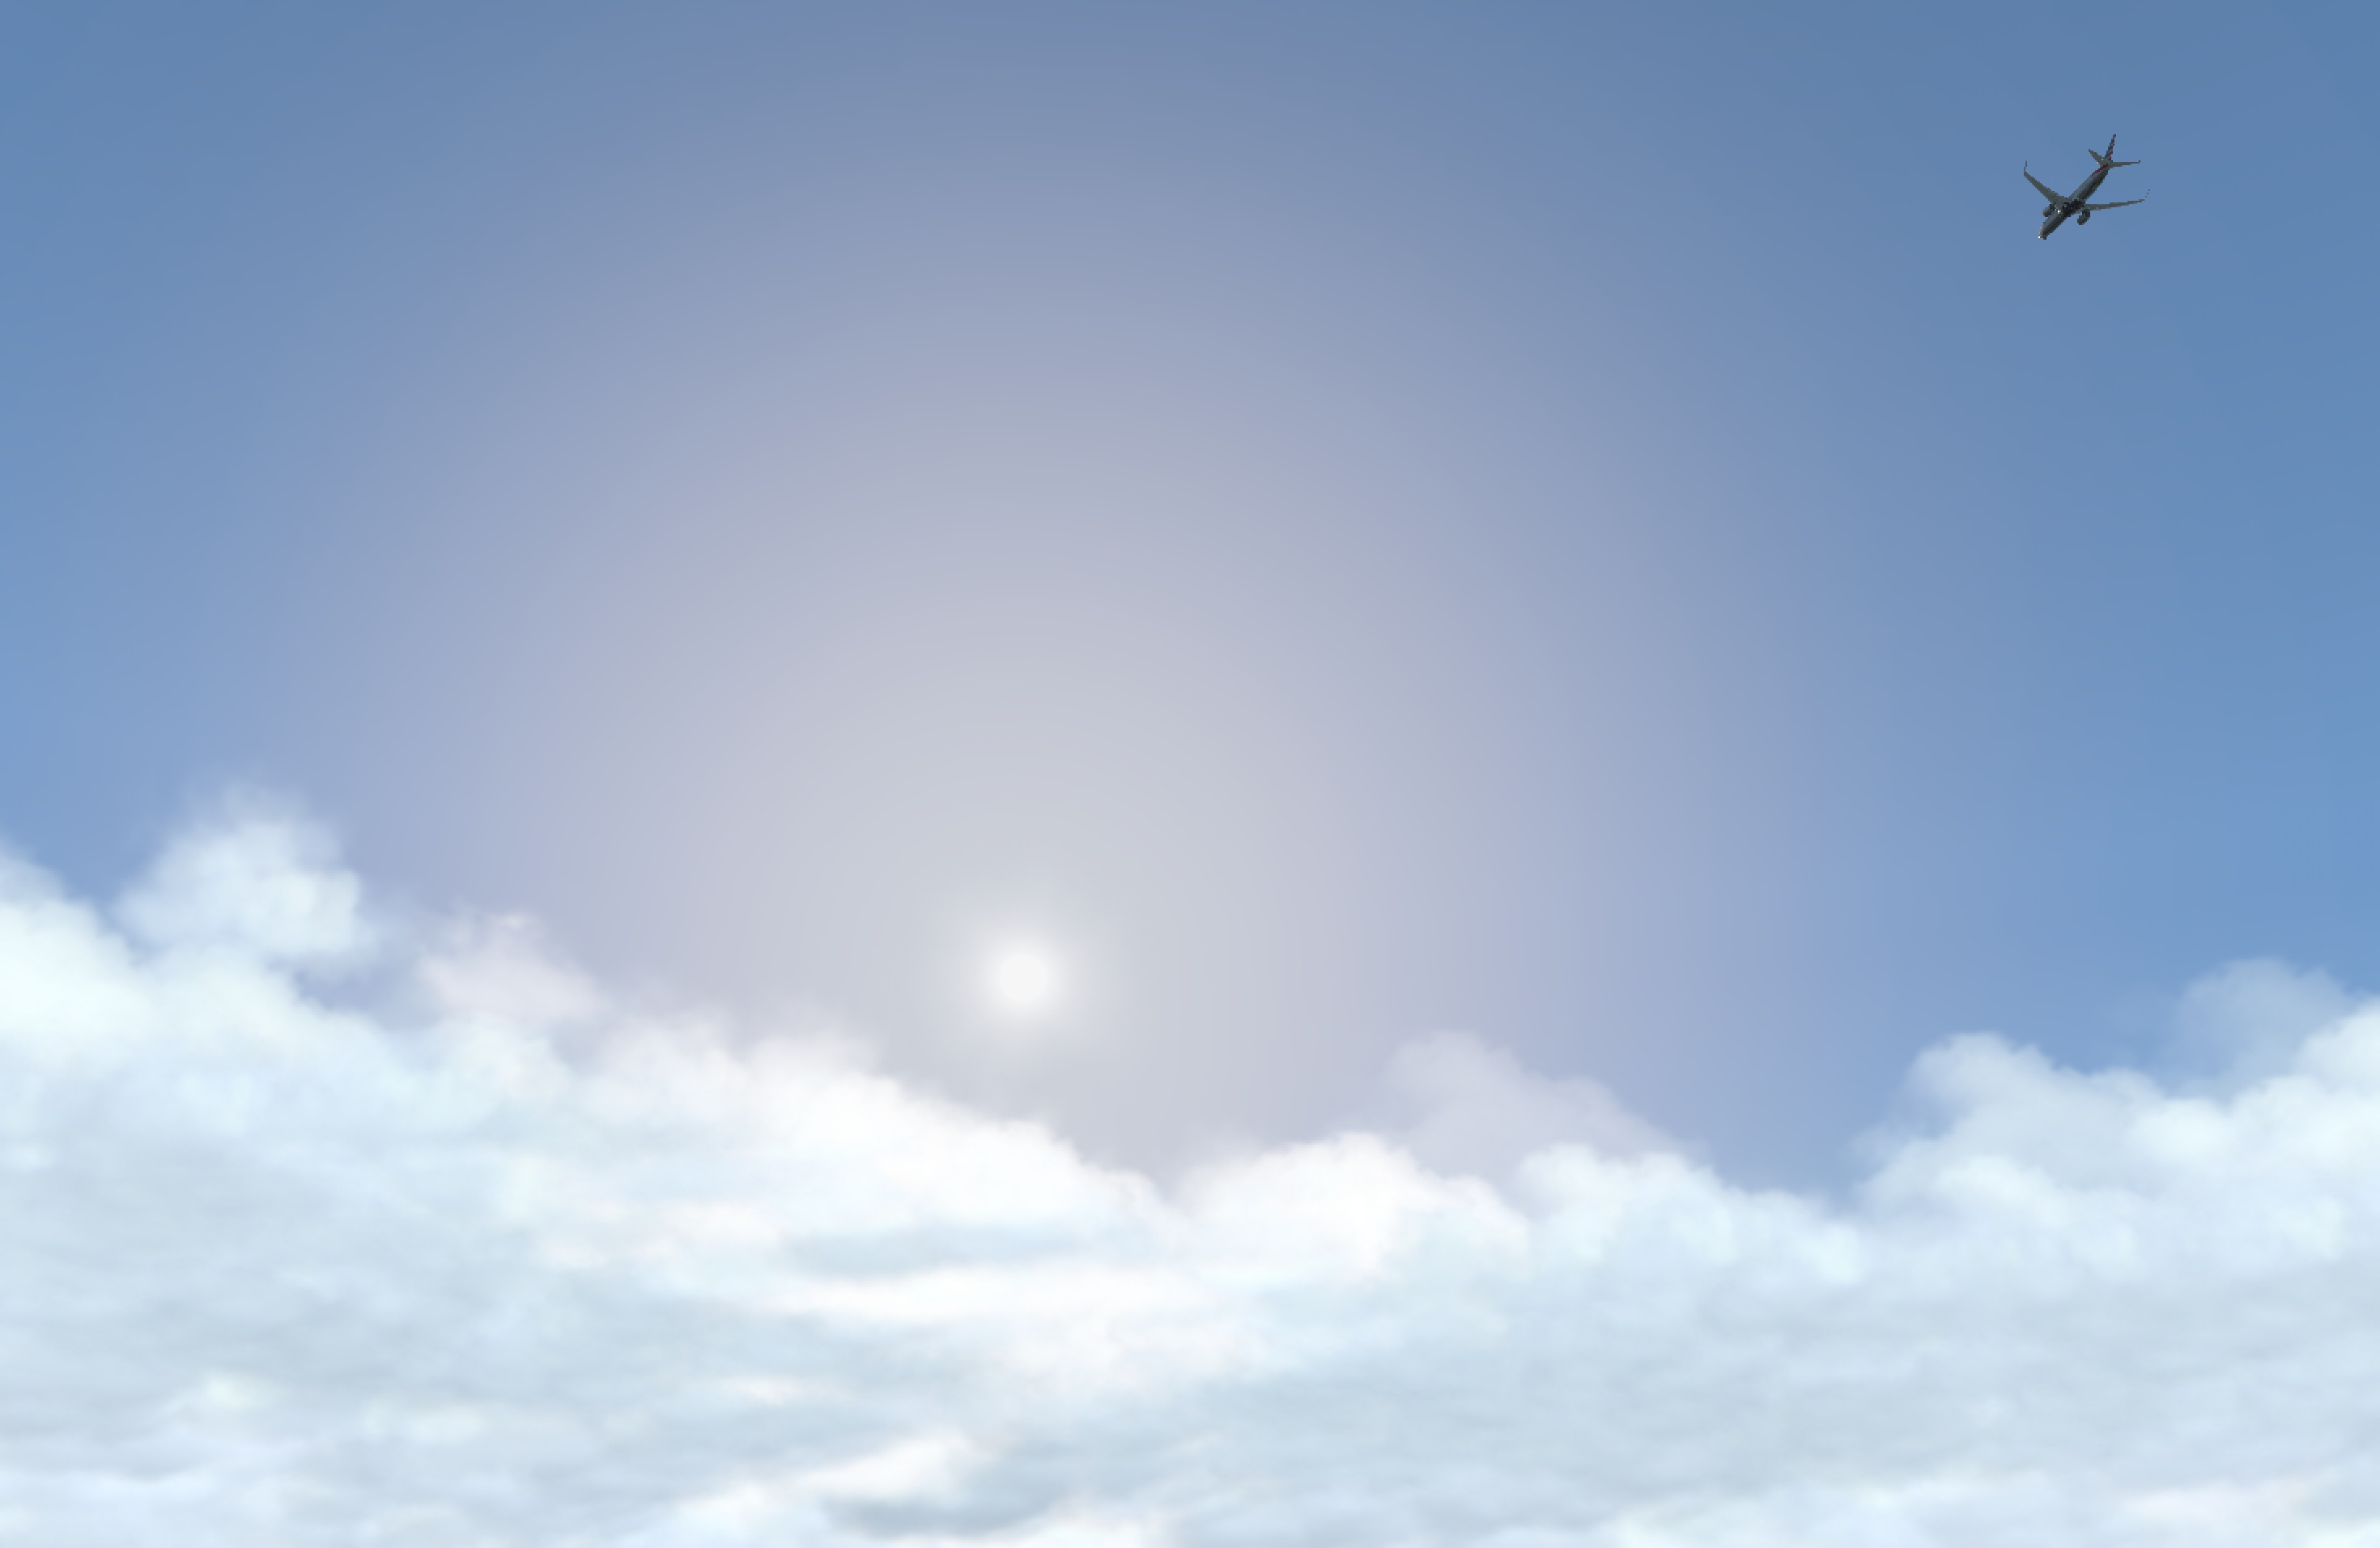aircraft: (2009, 180, 2137, 229)
